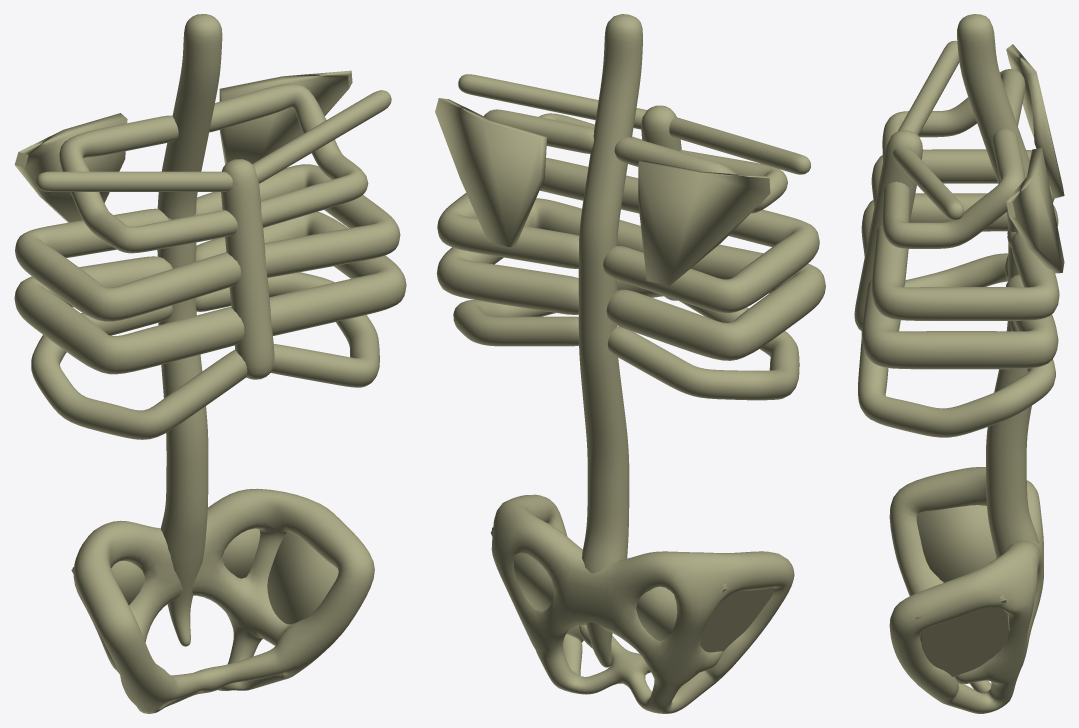
File: Ribcage+Pelvis1.glb
3 views of the same model, side by side, from view 1: azimuth 30°, elevation 25°; view 2: azimuth 150°, elevation 25°; view 3: azimuth 270°, elevation 25° (orthographic). The views are drawn at different scales.
Parts seen in each view (by area): view 1: Dup ruggengraad.001; view 2: Dup ruggengraad.001; view 3: Dup ruggengraad.001.
Boxes of the visible parts, bbox=[...] form: Dup ruggengraad.001: bbox=[14, 14, 406, 713]; Dup ruggengraad.001: bbox=[435, 14, 825, 713]; Dup ruggengraad.001: bbox=[854, 14, 1064, 713].
Bounding box in the file's own units: 1.35 × 2.5 × 0.7073.
Materials: 1 (1 with a texture image).
